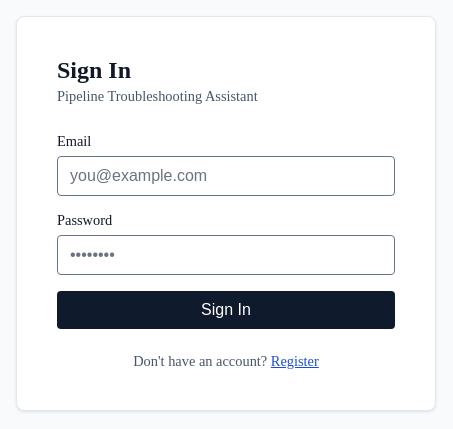
Test: LoginPage form submission › disables submit button while loading
The width and height of the screenshot is (453, 429).
Type "user@example.com" into the field labelled "Email" at [226, 176], box left=57, top=156, right=395, bottom=196
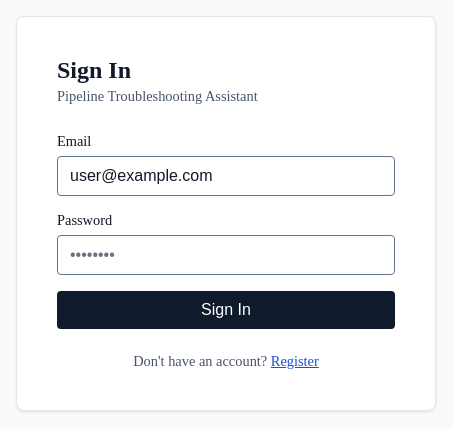
Type "password123" into the password field labelled "Password" at [226, 254], box left=57, top=234, right=395, bottom=274
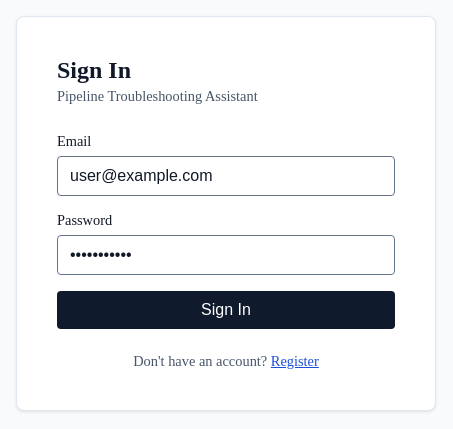
Click the button "Sign In" at [226, 310], box left=57, top=290, right=395, bottom=328
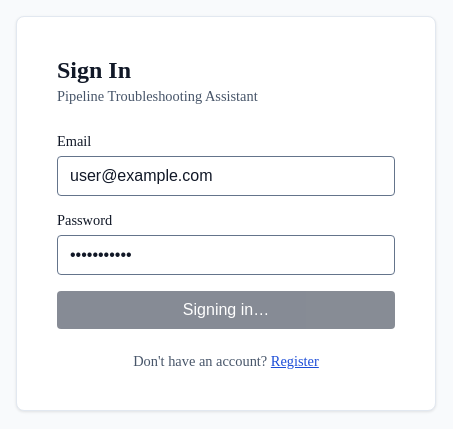
Check: the button "Signing in…" is disabled, box left=57, top=290, right=395, bottom=328
